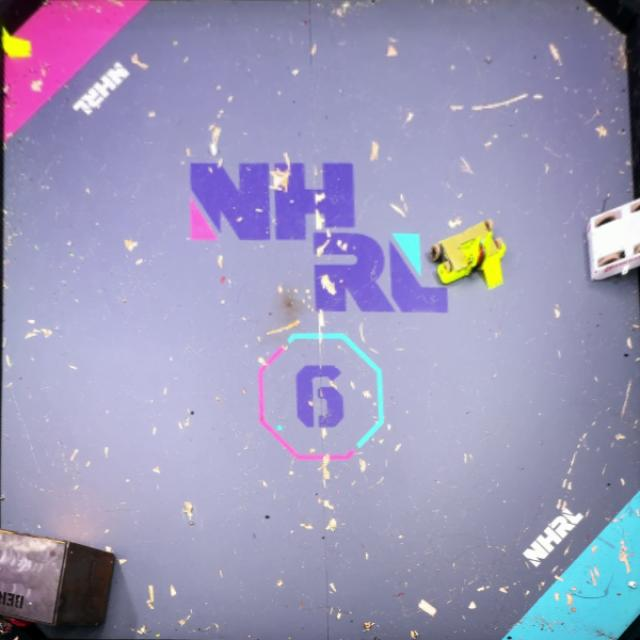housebot: (0, 517, 119, 639)
robot: (430, 218, 510, 291), (584, 197, 640, 284)
